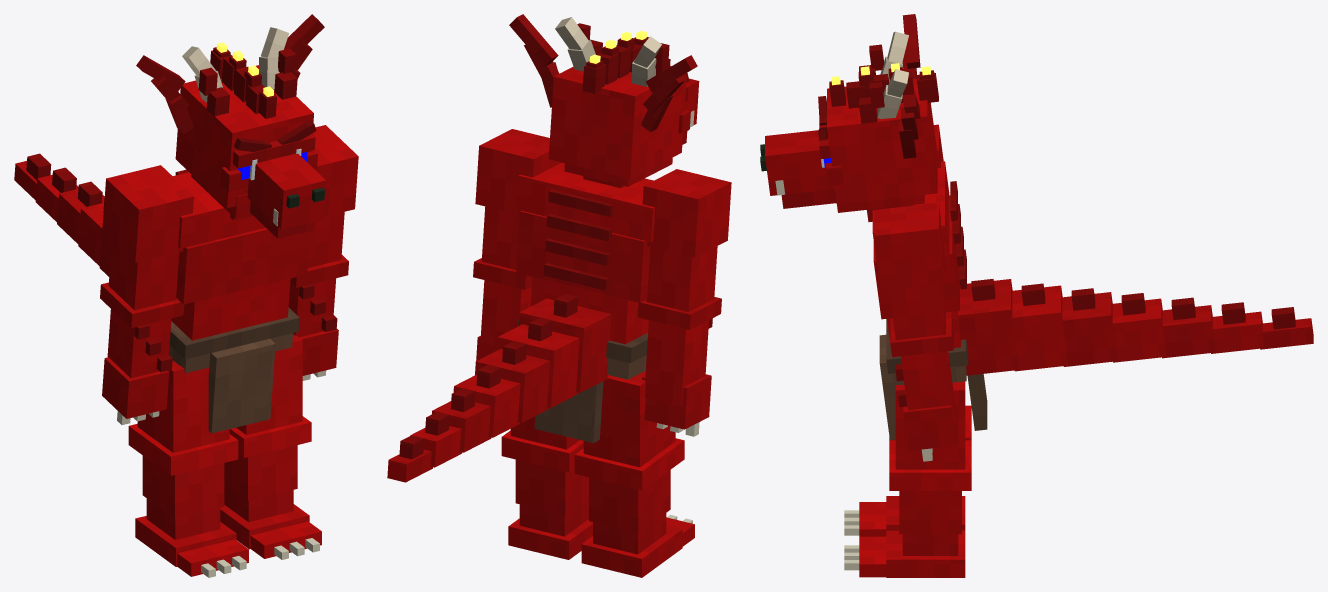
Rendered from lizard_s2_evo1.glb.
3 views of the same model, side by side, from view 1: azimuth 30°, elevation 25°; view 2: azimuth 150°, elevation 25°; view 3: azimuth 270°, elevation 25° (orthographic). The views are drawn at different scales.
Parts seen in each view (by area): view 1: Torso, Head, ArmR, LegR, LegL, ArmL, Root; view 2: Torso, Head, ArmR, LegR, ArmL, LegL; view 3: Torso, Head, ArmL, LegL, LegR, Root.
Boxes of the visible parts, bbox=[...] form: Torso: bbox=[14, 153, 310, 433]; Head: bbox=[136, 14, 326, 238]; ArmR: bbox=[100, 165, 193, 424]; LegR: bbox=[128, 360, 248, 576]; LegL: bbox=[220, 334, 321, 558]; ArmL: bbox=[288, 125, 358, 380]; Root: bbox=[201, 538, 319, 577]; Torso: bbox=[387, 162, 655, 482]; Head: bbox=[509, 14, 699, 187]; ArmR: bbox=[637, 169, 731, 436]; LegR: bbox=[574, 371, 694, 577]; ArmL: bbox=[473, 129, 561, 361]; LegL: bbox=[501, 416, 592, 559]; Torso: bbox=[872, 161, 1313, 440]; Head: bbox=[760, 14, 938, 222]; ArmL: bbox=[874, 203, 956, 461]; LegL: bbox=[859, 381, 971, 577]; LegR: bbox=[859, 405, 971, 536]; Root: bbox=[844, 510, 859, 570].
Bounding box in the file's own units: 0.78 × 1.73 × 1.75.
Materials: 25 (25 with a texture image).
